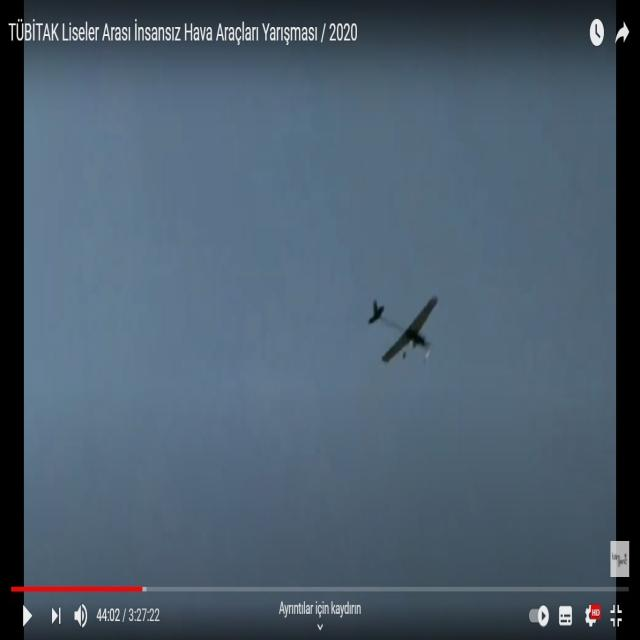iha: (400, 321, 405, 326)
